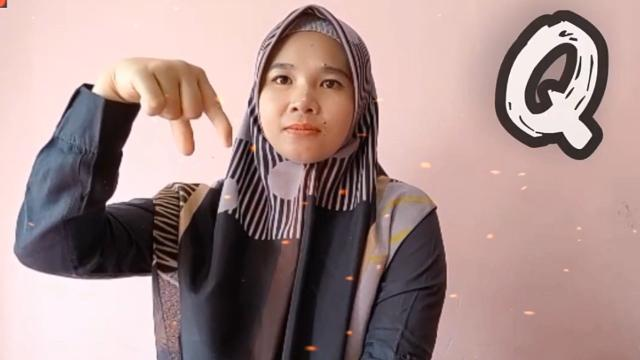Q: (108, 51, 242, 165)
